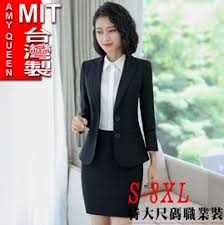F_tailored skirt: (70, 127, 152, 223)
S_business casual jacket: (62, 55, 173, 171)
